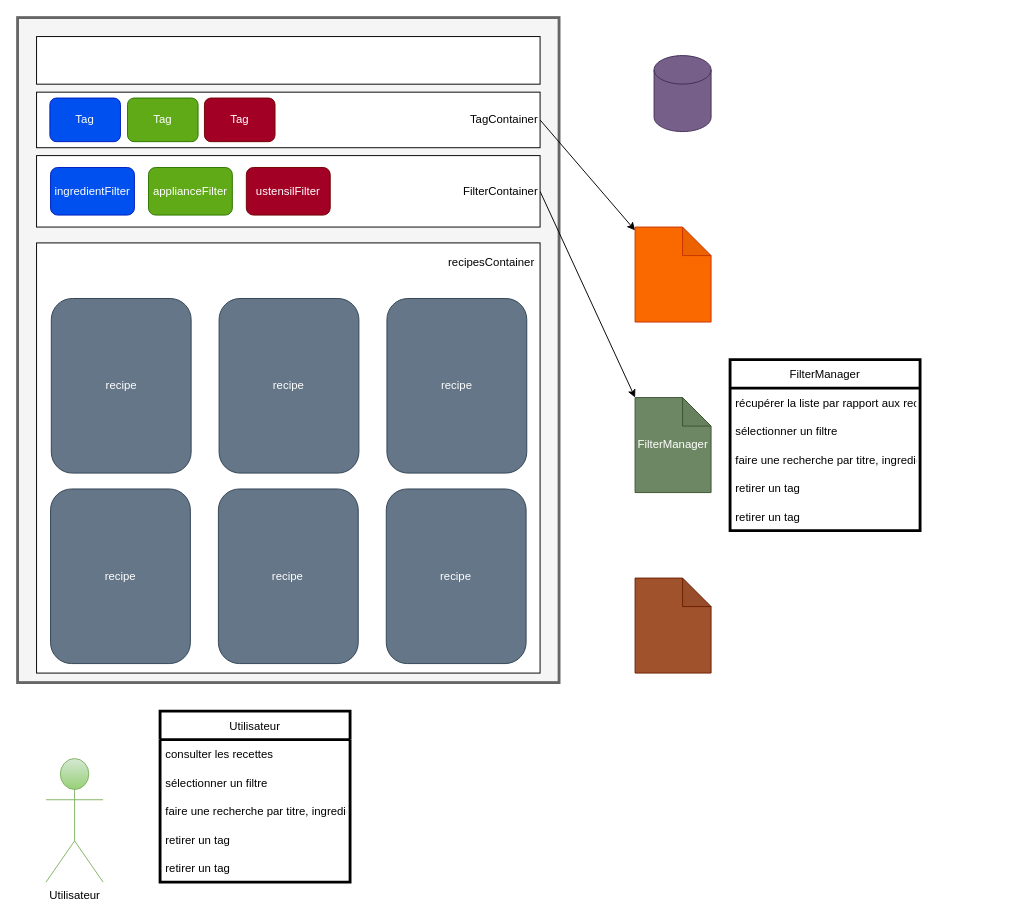
Some shapes in this 1021 by 919 pixel diagram are drawn without their labels. The shapes that lost their labels are listed below. From the top down, each one's centre as x and y in pixels, then its label:
point 288,60: SearchBar input
point 682,93: DataManager
point 672,274: TagManager
point 672,625: Index.js
